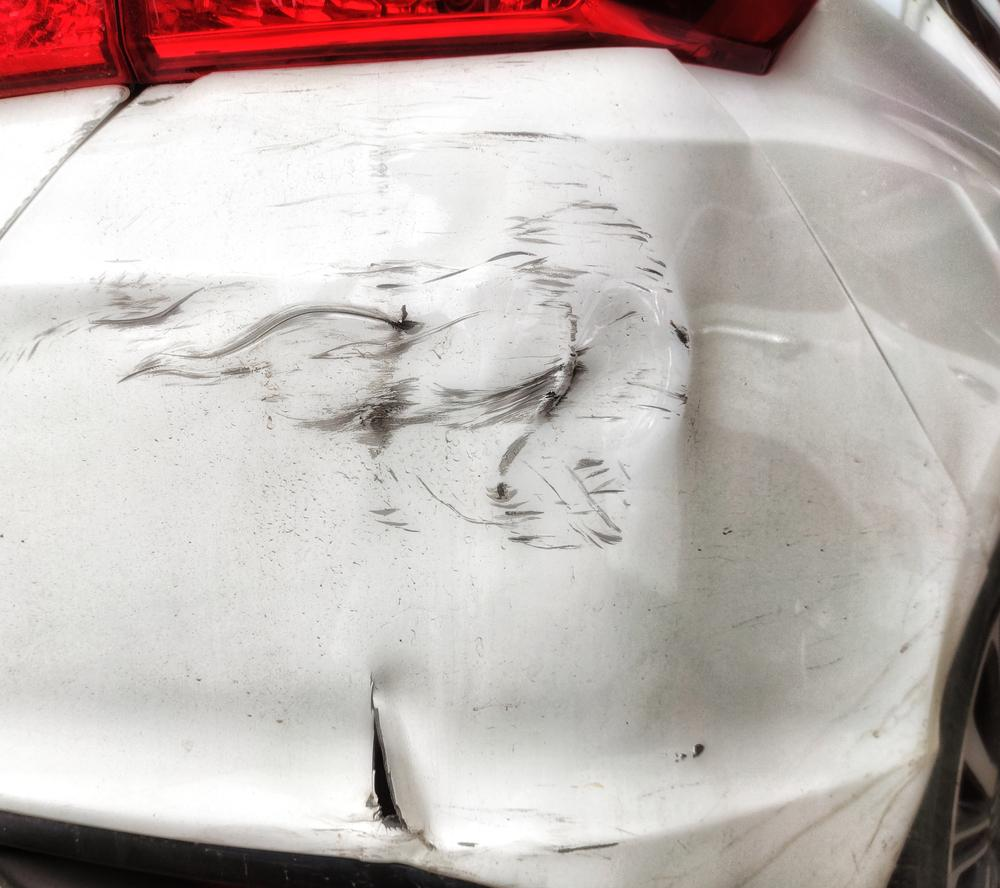crack: (369, 694, 408, 833)
dent: (351, 138, 988, 851)
scratch: (9, 135, 388, 437)
